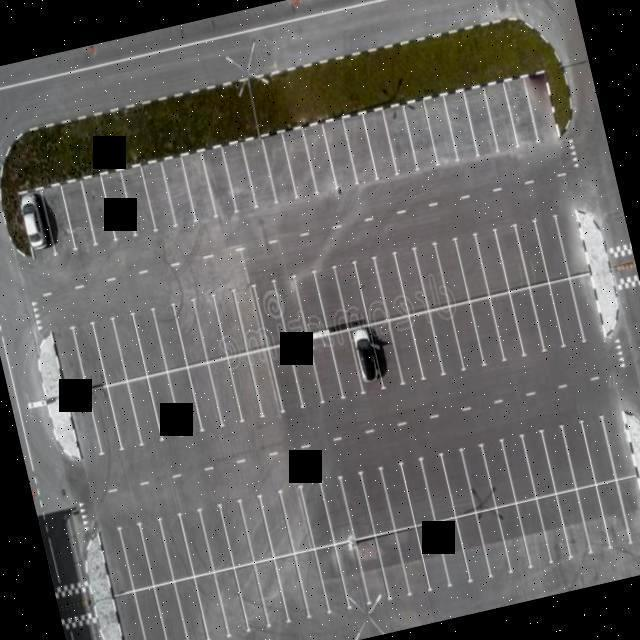space-empty: (145, 367, 191, 443), (591, 473, 635, 552), (573, 479, 616, 558), (472, 502, 514, 582), (371, 526, 413, 605), (532, 489, 574, 568), (100, 168, 141, 248), (300, 118, 342, 196), (452, 508, 494, 586), (552, 486, 594, 564), (278, 124, 318, 204), (446, 295, 487, 373), (492, 499, 533, 577), (391, 523, 432, 601), (513, 495, 554, 573), (412, 518, 453, 596), (270, 549, 312, 625), (310, 540, 352, 616), (350, 531, 392, 607), (544, 275, 587, 349), (505, 283, 547, 358), (252, 553, 294, 628), (292, 545, 334, 620), (264, 334, 304, 412), (285, 330, 324, 410), (260, 131, 300, 209), (118, 164, 159, 240), (166, 365, 207, 441), (332, 535, 373, 611), (340, 109, 379, 188), (308, 327, 348, 404), (327, 325, 367, 402), (525, 279, 566, 354), (231, 560, 272, 635), (432, 512, 471, 590), (387, 311, 427, 387), (187, 356, 227, 432), (225, 350, 265, 426), (486, 287, 526, 363), (321, 114, 361, 190), (480, 80, 520, 156), (502, 75, 542, 151), (406, 310, 447, 384), (467, 294, 508, 368), (557, 418, 598, 492), (599, 408, 640, 482), (191, 568, 233, 640), (577, 415, 619, 487), (76, 170, 115, 247), (460, 82, 499, 159), (199, 144, 238, 221), (244, 346, 284, 421), (420, 94, 460, 169), (358, 107, 398, 182), (400, 97, 440, 172), (40, 181, 80, 256), (380, 102, 419, 178), (238, 135, 277, 211), (211, 286, 251, 360), (179, 150, 219, 224), (211, 564, 251, 638), (440, 88, 480, 162), (418, 452, 459, 524), (95, 524, 136, 596), (205, 355, 244, 430), (159, 154, 198, 229), (117, 520, 157, 593), (365, 316, 403, 392), (60, 179, 99, 253), (139, 161, 178, 235), (426, 305, 465, 379), (398, 455, 438, 527), (356, 464, 396, 536), (83, 385, 123, 457), (500, 430, 540, 502), (531, 213, 571, 285), (126, 374, 164, 449), (220, 140, 258, 215), (478, 437, 518, 508), (538, 424, 578, 495), (104, 379, 142, 453), (191, 292, 230, 364), (452, 232, 491, 304), (129, 307, 168, 379), (171, 298, 211, 368), (295, 476, 335, 546), (49, 324, 89, 394), (237, 492, 276, 563), (257, 488, 296, 559), (518, 428, 557, 499), (198, 501, 236, 573), (90, 316, 128, 388), (158, 509, 196, 581), (277, 483, 315, 555), (411, 240, 450, 310), (218, 498, 257, 568), (512, 218, 551, 288), (338, 468, 377, 538), (170, 573, 211, 639), (369, 251, 408, 320), (458, 442, 497, 511), (492, 221, 530, 291), (110, 312, 148, 382), (150, 303, 188, 373), (439, 448, 477, 518), (378, 461, 416, 531), (317, 473, 355, 543), (136, 515, 174, 585), (393, 248, 431, 317), (433, 237, 471, 306), (70, 321, 108, 390), (176, 507, 214, 576), (230, 286, 268, 354), (474, 229, 512, 297), (292, 270, 330, 337), (68, 388, 104, 458), (334, 260, 371, 328), (252, 282, 289, 350), (350, 256, 388, 322), (150, 579, 191, 640), (314, 265, 351, 332), (272, 275, 308, 343), (130, 583, 172, 640), (611, 467, 640, 547)
space-occupied: (15, 184, 54, 260), (346, 317, 383, 396)
